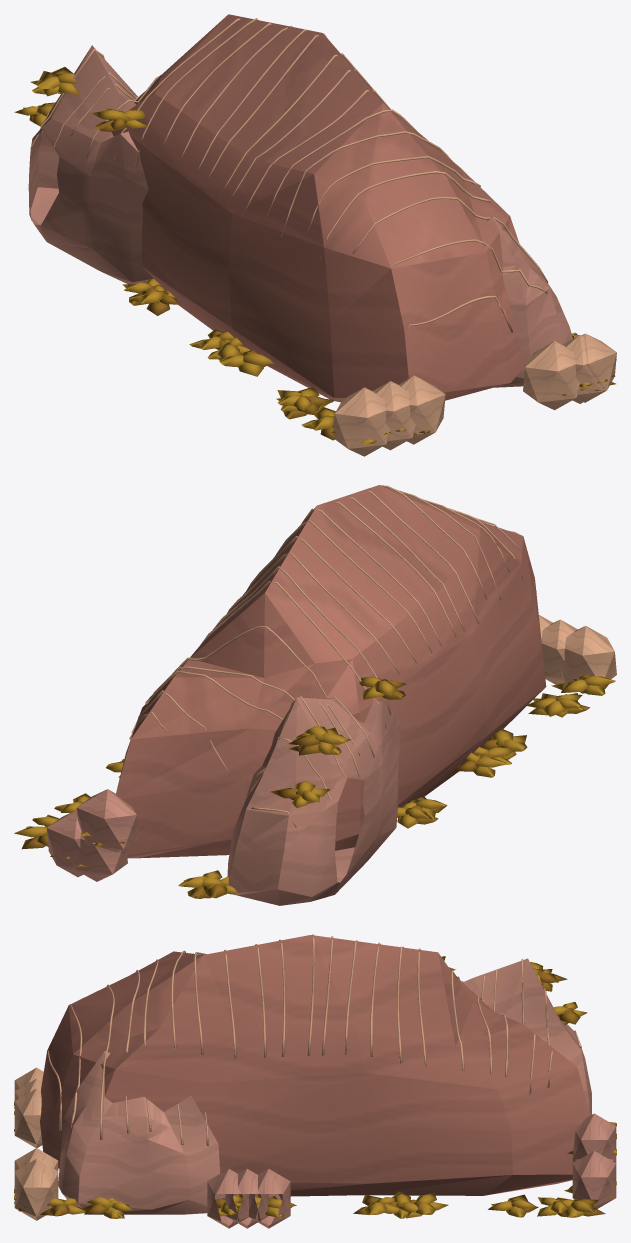
Rendered from PilotRidgeN_1.fbx.
The picture shows the model from 3 angles, top to bottom: view 1: azimuth 30°, elevation 25°; view 2: azimuth 150°, elevation 25°; view 3: azimuth 270°, elevation 25°; orthographic projection. The views are drawn at different scales.
Parts seen in each view (by area): view 1: PilotRidgeN_1__Geometry; view 2: PilotRidgeN_1__Geometry; view 3: PilotRidgeN_1__Geometry.
Boxes of the visible parts, x1=… form: PilotRidgeN_1__Geometry: x1=14, y1=14, x2=616, y2=456; PilotRidgeN_1__Geometry: x1=14, y1=485, x2=616, y2=905; PilotRidgeN_1__Geometry: x1=14, y1=934, x2=616, y2=1228.
Size of the model in its own units: 2 by 1.77 by 4.
